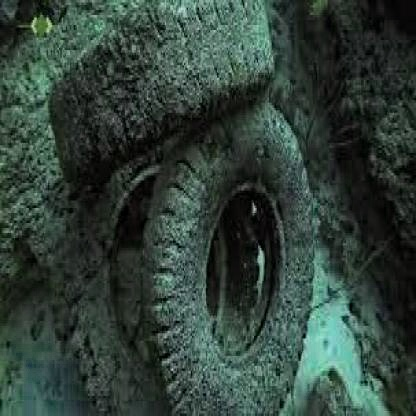tire: (125, 85, 318, 414), (60, 143, 187, 416), (56, 2, 264, 143)
